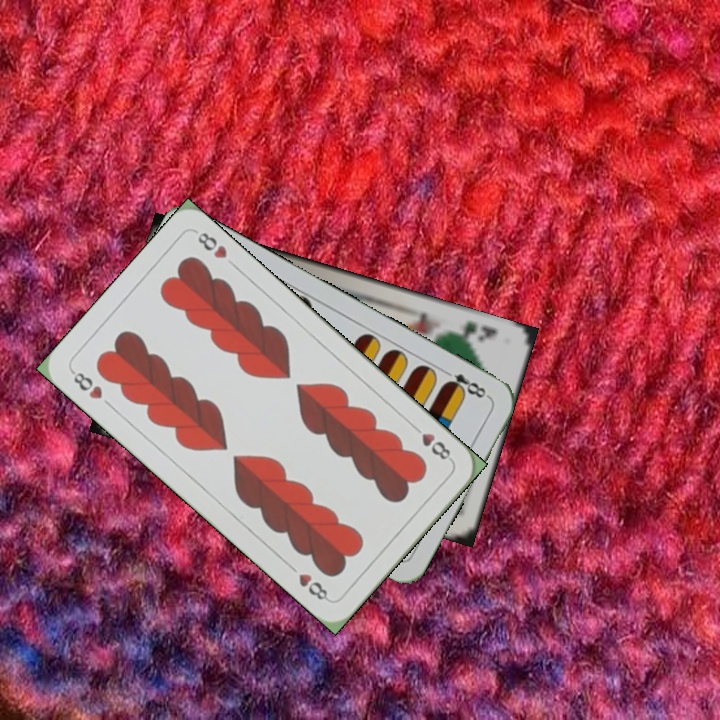E8: (439, 365, 492, 401)
GK: (448, 318, 500, 345)
H8: (407, 420, 455, 463), (67, 366, 105, 402)
